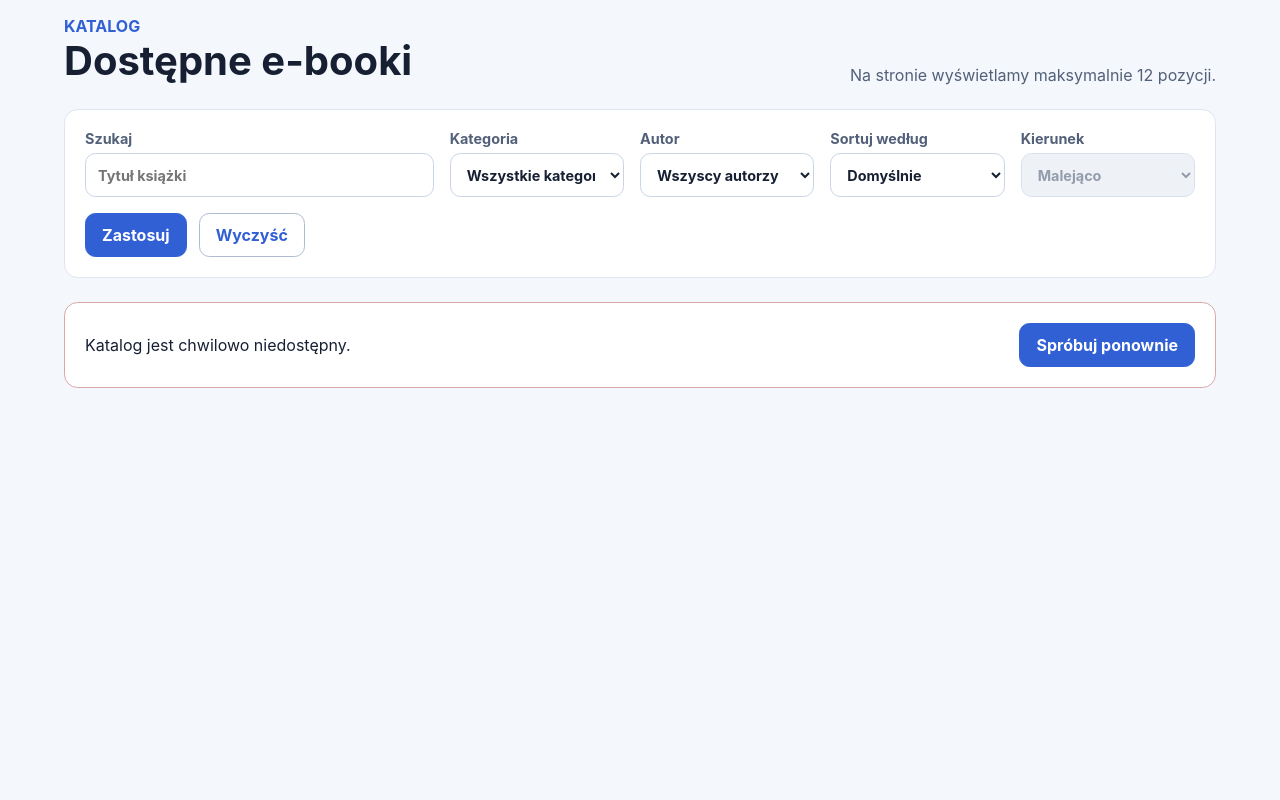
Scenario: CatalogPage › shows an API error and retries the current page
Expected: the message shows "Katalog jest chwilowo niedostępny.", [85,335,351,355]
Step 1. Click the button "Spróbuj ponownie" → (1107,345), box [1019,323,1195,367]
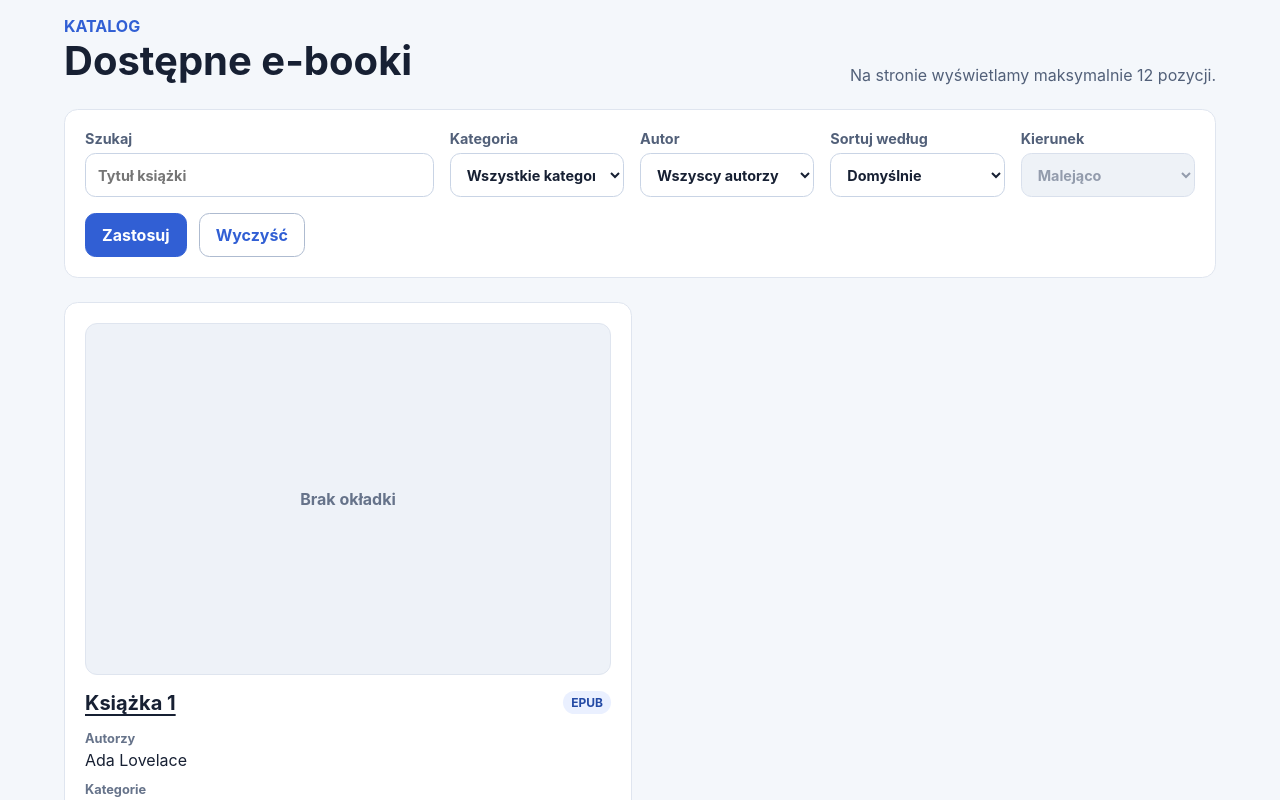
Expected: the heading "Książka 1" is shown, [85,691,176,715]
